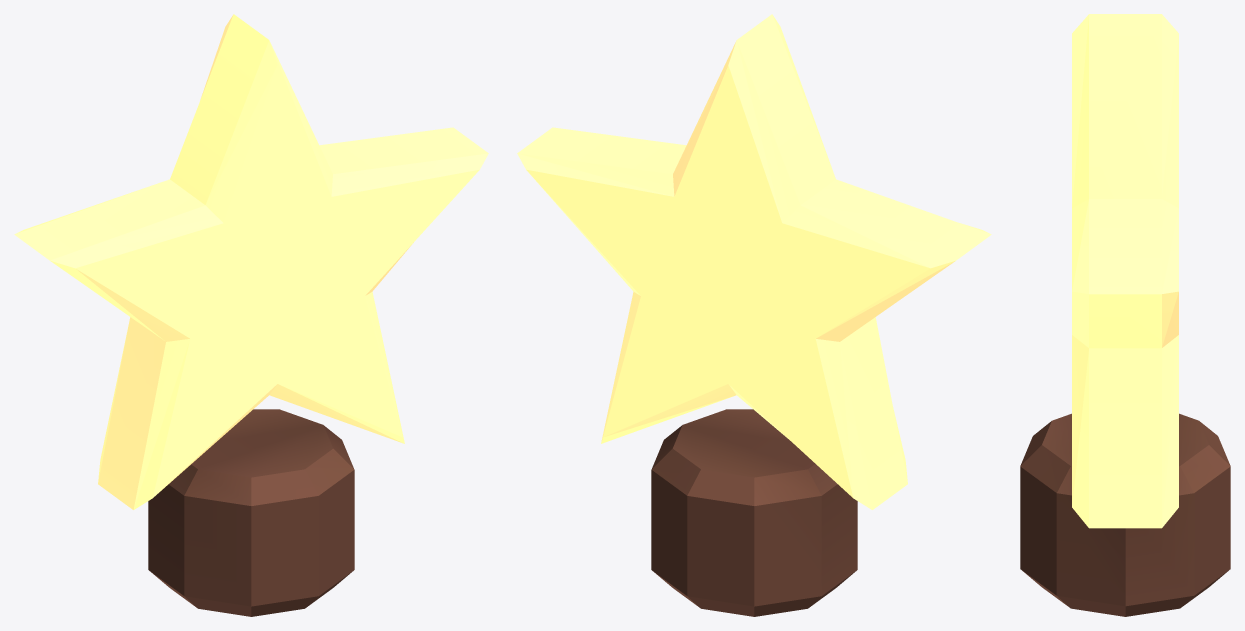
File: topper_star.glb
The picture shows the model from 3 angles, left to right: view 1: azimuth 30°, elevation 25°; view 2: azimuth 150°, elevation 25°; view 3: azimuth 270°, elevation 25°; orthographic projection. The views are drawn at different scales.
Parts seen in each view (by area): view 1: topper_star; view 2: topper_star; view 3: topper_star.
Boxes of the visible parts, left/top/right/bottom form: topper_star: left=14, top=14, right=488, bottom=616; topper_star: left=517, top=14, right=991, bottom=616; topper_star: left=1020, top=14, right=1230, bottom=616.
Size of the model in its own units: 0.4945 by 0.597 by 0.2009.
